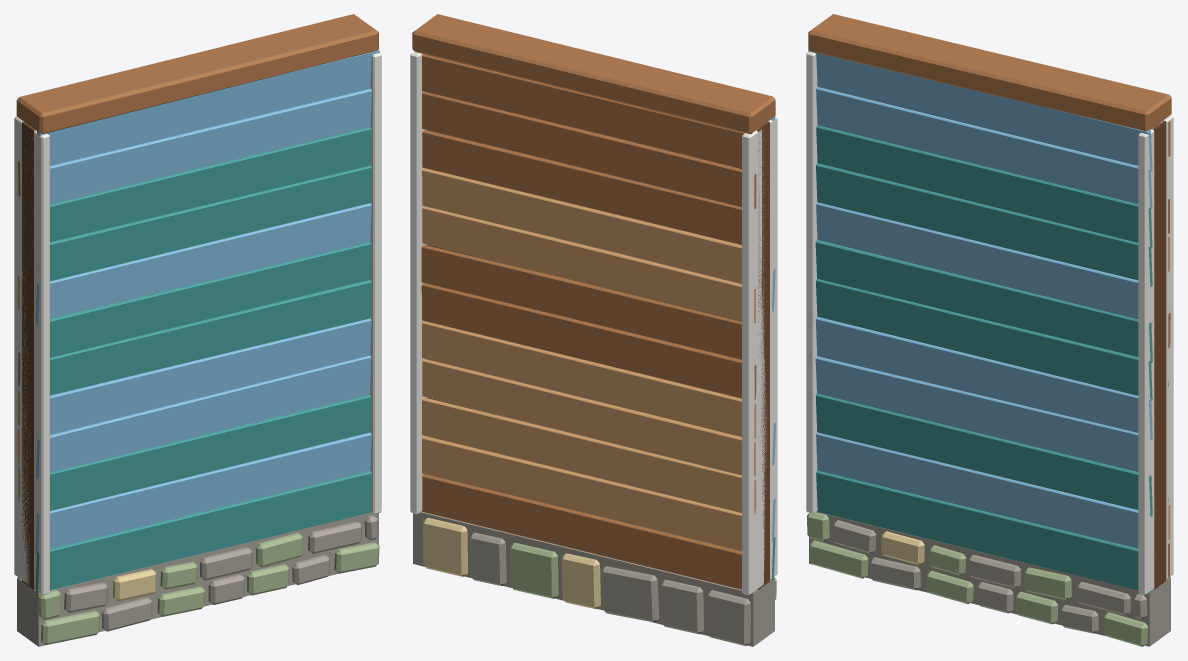
The model's file is wall_plank_siding.glb.
The picture shows the model from 3 angles, left to right: view 1: azimuth 30°, elevation 25°; view 2: azimuth 150°, elevation 25°; view 3: azimuth 330°, elevation 25°; orthographic projection.
Visible parts, largest first — view 1: Wall Plank Siding; view 2: Wall Plank Siding; view 3: Wall Plank Siding.
Part boxes in pixels (x1,y1,x2,y2): Wall Plank Siding: (14, 14, 381, 646); Wall Plank Siding: (410, 14, 777, 646); Wall Plank Siding: (806, 14, 1173, 646).
Bounding box in the file's own units: 2 × 3.01 × 0.295.
Materials: 1 (1 with a texture image).
